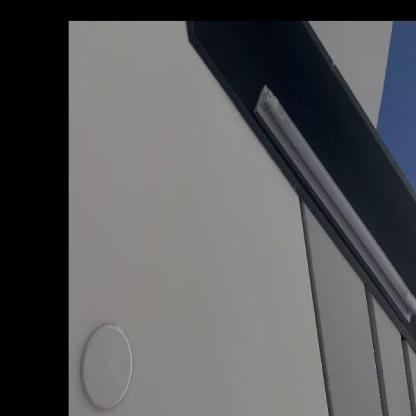light_off: (249, 61, 415, 344)
